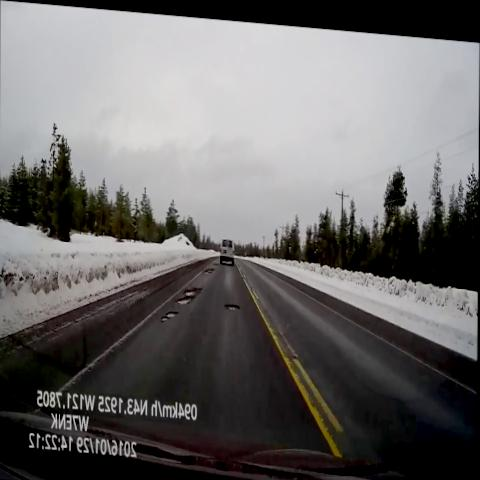pothole: (174, 277, 200, 308), (223, 288, 247, 315), (157, 304, 180, 329), (201, 257, 216, 282)
